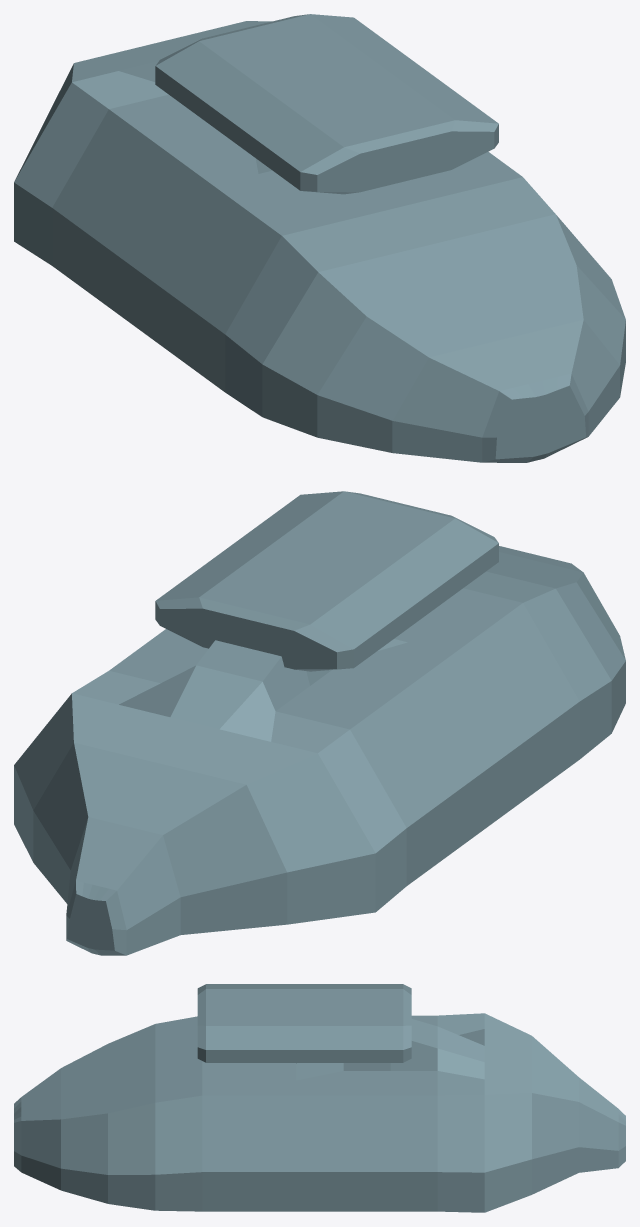
The model's file is ballard_transport_a.glb.
The picture shows the model from 3 angles, top to bottom: view 1: azimuth 30°, elevation 25°; view 2: azimuth 150°, elevation 25°; view 3: azimuth 270°, elevation 25°; orthographic projection. The views are drawn at different scales.
Visible parts, largest first — view 1: ballard_transport_a; view 2: ballard_transport_a; view 3: ballard_transport_a.
Part boxes in pixels (x1=…): ballard_transport_a: x1=14, y1=14, x2=625, y2=462; ballard_transport_a: x1=14, y1=491, x2=625, y2=955; ballard_transport_a: x1=14, y1=984, x2=625, y2=1212.
Size of the model in its own units: 3.9 by 2.35 by 8.4.
